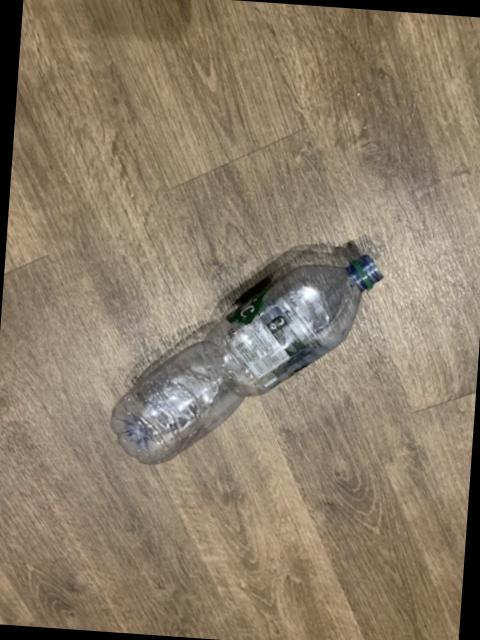plastic: (111, 257, 382, 465)
